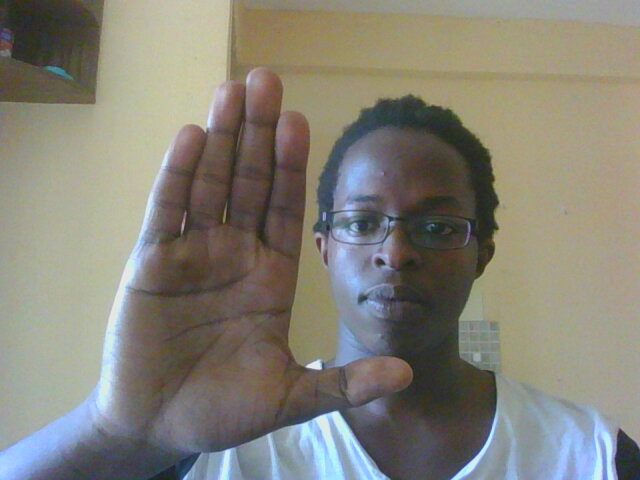Hello: (56, 56, 433, 450)
